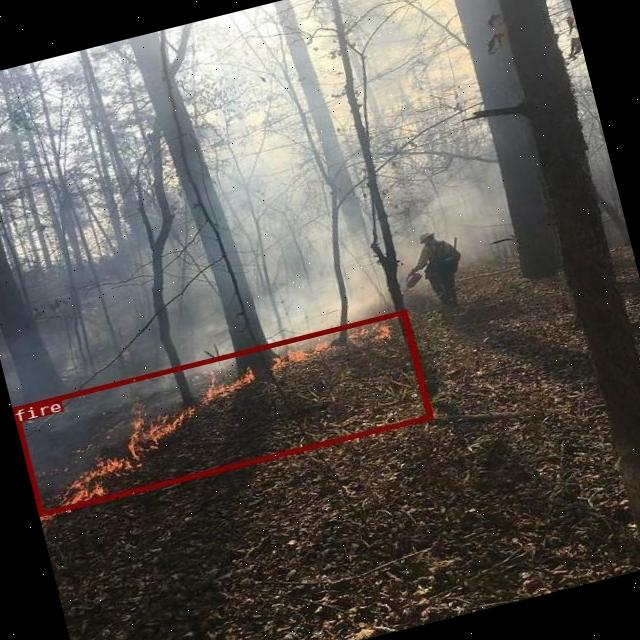fire: (12, 310, 431, 516)
